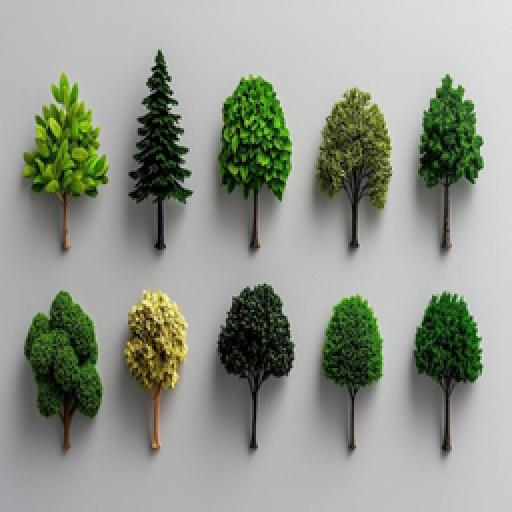trees: (20, 70, 110, 254), (20, 286, 106, 456), (214, 280, 296, 458), (214, 72, 294, 254), (126, 48, 196, 252), (312, 84, 396, 254), (408, 288, 486, 460), (414, 70, 486, 256), (120, 284, 190, 454), (318, 288, 388, 458)
